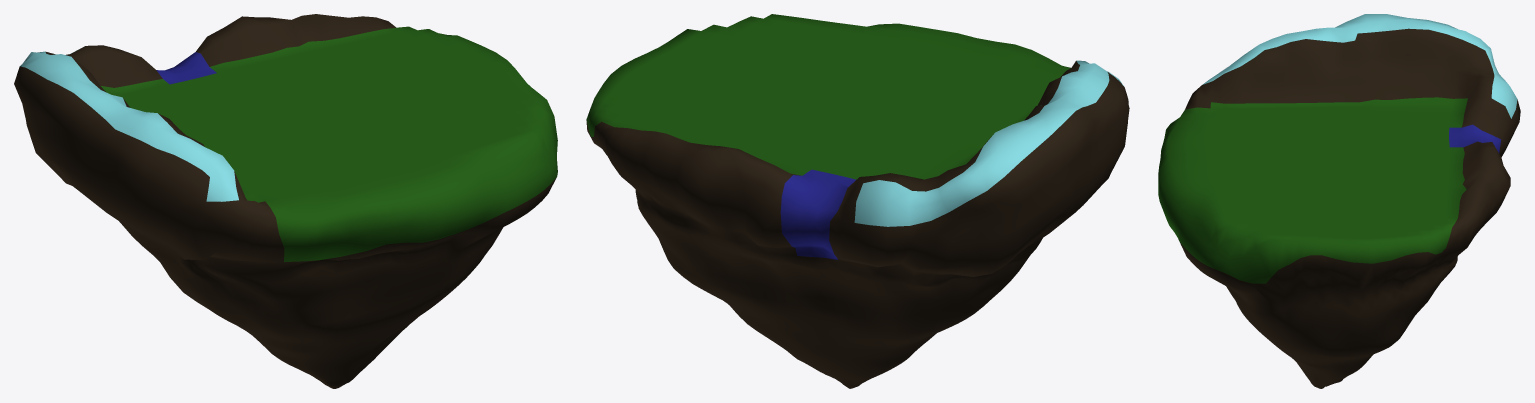
Rendered from TestIsland02.FBX.
3 views of the same model, side by side, from view 1: azimuth 30°, elevation 25°; view 2: azimuth 150°, elevation 25°; view 3: azimuth 270°, elevation 25° (orthographic). The views are drawn at different scales.
Visible parts, largest first — view 1: 34_0; view 2: 34_0; view 3: 34_0.
Boxes of the visible parts, bbox=[...] form: 34_0: bbox=[14, 14, 557, 388]; 34_0: bbox=[586, 14, 1129, 388]; 34_0: bbox=[1158, 14, 1520, 388].
Bounding box in the file's own units: 424 × 302 × 356.
